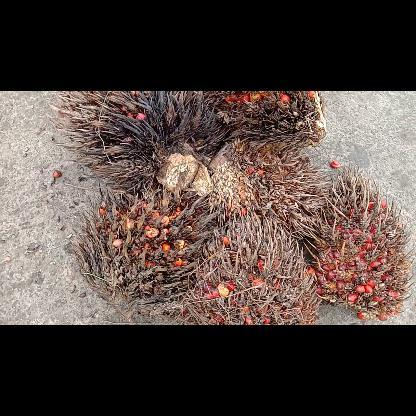Terlalu masak: (70, 185, 220, 320), (50, 90, 228, 196), (305, 166, 415, 320), (182, 212, 320, 324), (208, 138, 328, 240), (203, 91, 325, 149)
